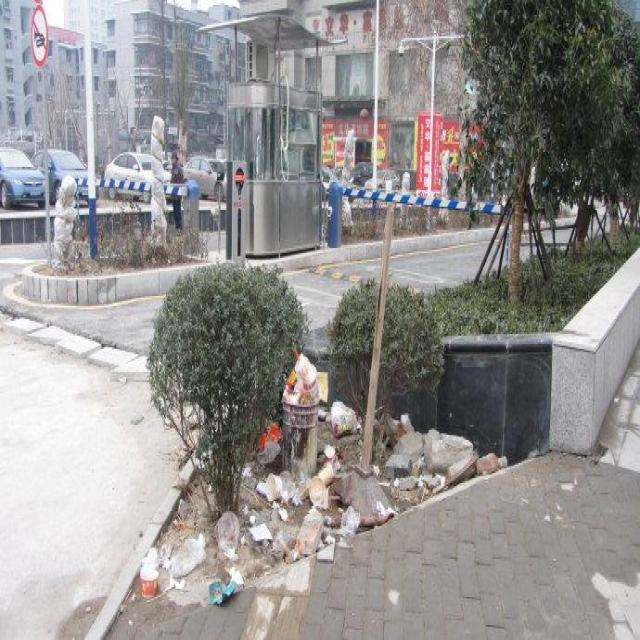garbage: (248, 445, 408, 531), (389, 411, 477, 505), (279, 346, 331, 416)
